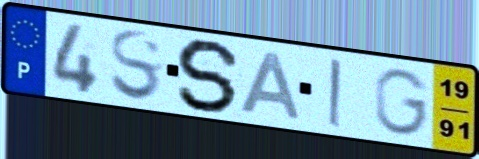4: (49, 21, 101, 96)
A: (237, 49, 304, 122)
G: (372, 66, 432, 139)
I: (326, 56, 345, 131)
S: (173, 37, 245, 115), (107, 28, 164, 105)
